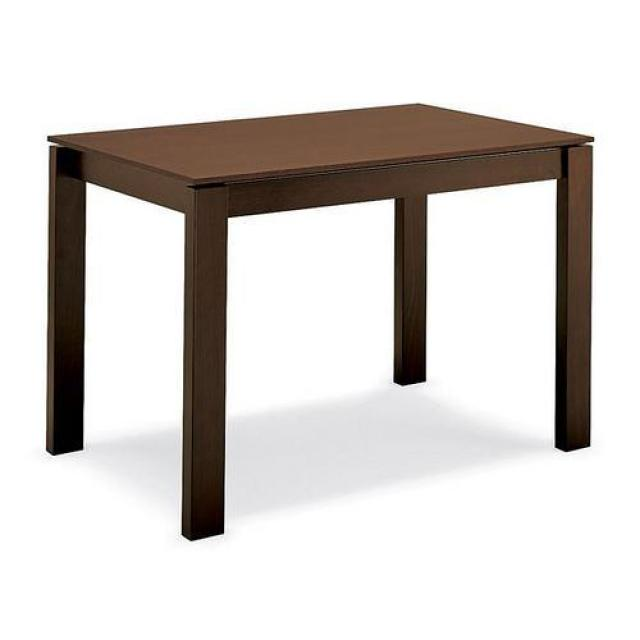table: (47, 102, 593, 543)
